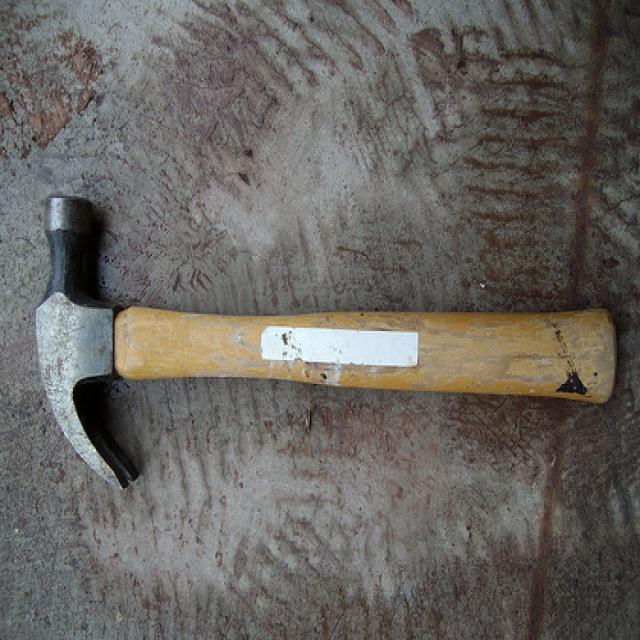hammer: (9, 170, 640, 510)
